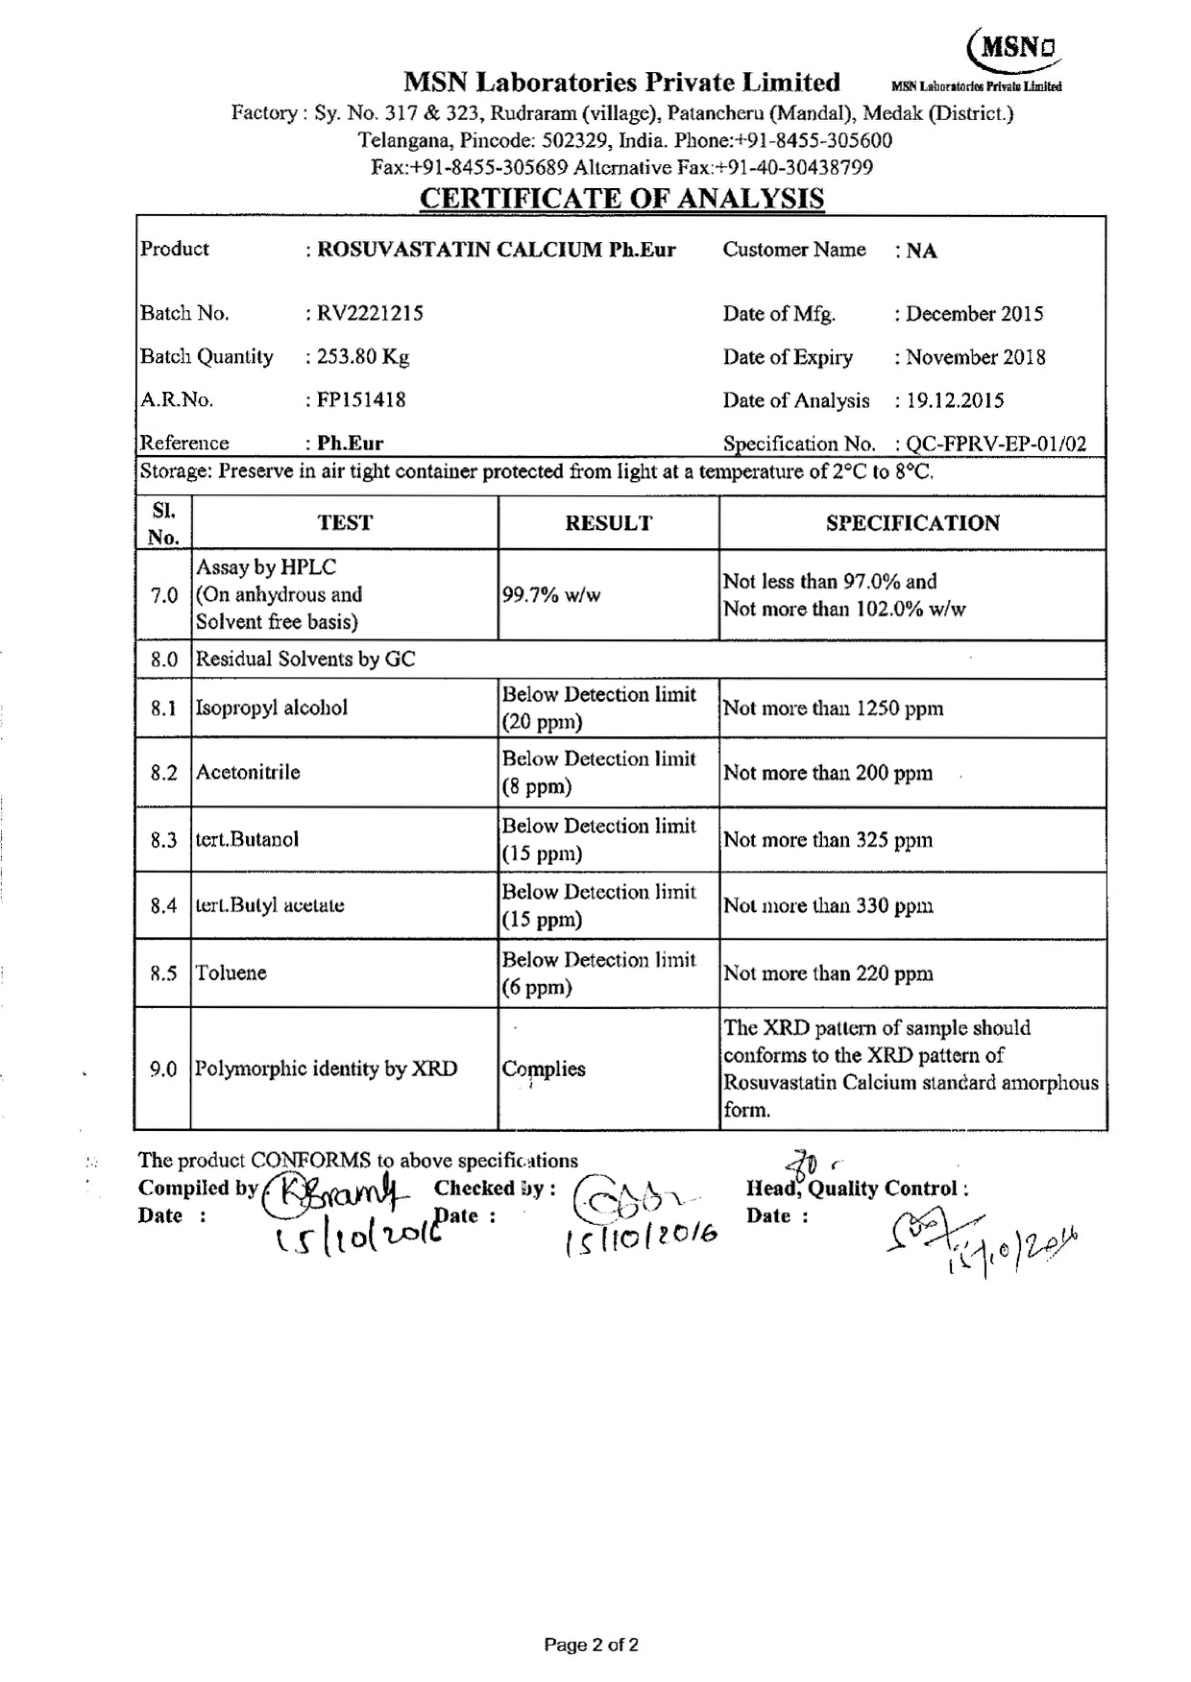merged_cells: (133, 213, 1110, 1133)
